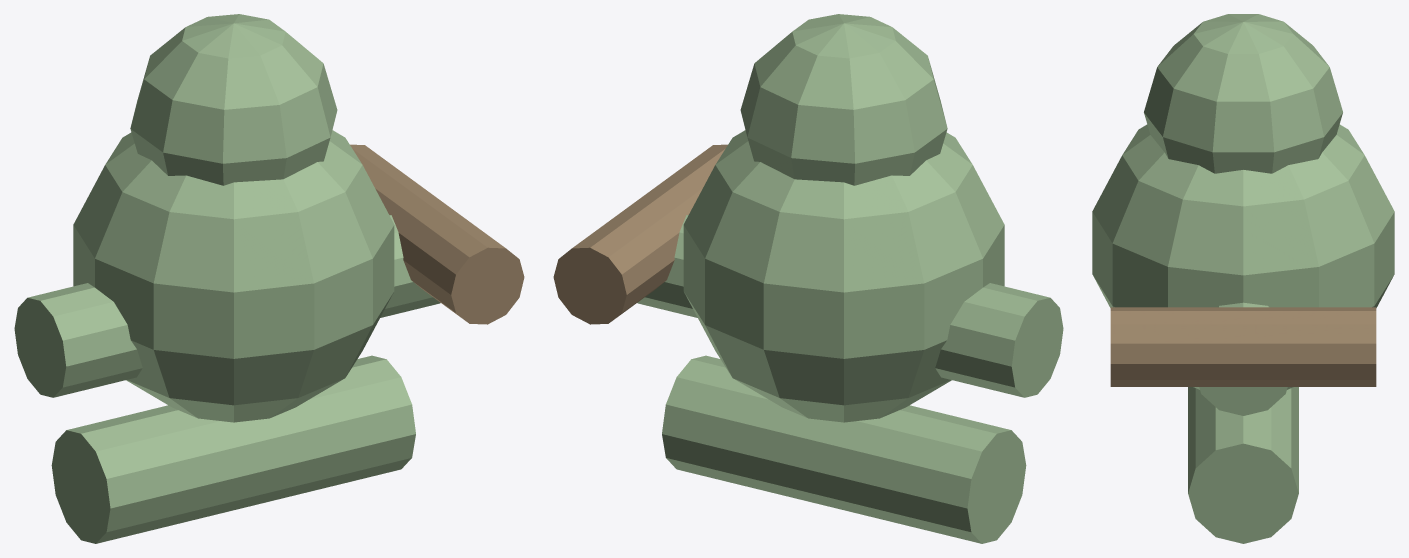
Rendered from troll.glb.
The picture shows the model from 3 angles, left to right: view 1: azimuth 30°, elevation 25°; view 2: azimuth 150°, elevation 25°; view 3: azimuth 270°, elevation 25°; orthographic projection. The views are drawn at different scales.
Visible parts, largest first — view 1: troll; view 2: troll; view 3: troll.
Boxes of the visible parts, x1,y1,x2,y2 form: troll: (14, 14, 524, 543); troll: (553, 14, 1063, 543); troll: (1092, 14, 1394, 543).
Bounding box in the file's own units: 2.03 × 2.25 × 1.36.
